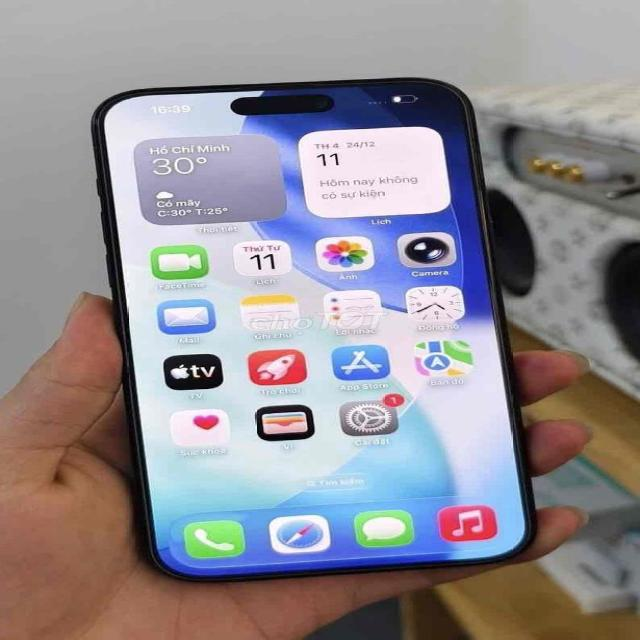gen_15: (54, 70, 575, 579)
